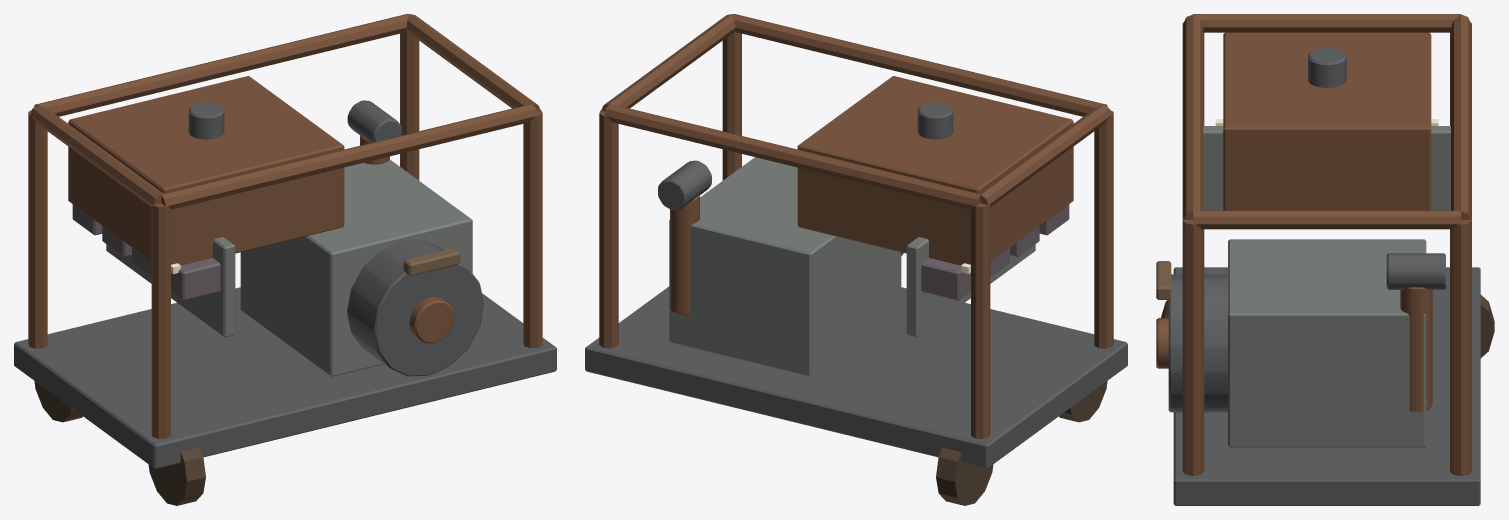
Rendered from SurfaceGenerator.fbx.
3 renders of one model, left to right at view 1: azimuth 30°, elevation 25°; view 2: azimuth 150°, elevation 25°; view 3: azimuth 270°, elevation 25°, orthographic. The views are drawn at different scales.
Visible parts, largest first — view 1: SurfaceGenerator; view 2: SurfaceGenerator; view 3: SurfaceGenerator.
Part boxes in pixels (x1=…): SurfaceGenerator: x1=14, y1=14, x2=556, y2=505; SurfaceGenerator: x1=585, y1=14, x2=1127, y2=505; SurfaceGenerator: x1=1156, y1=14, x2=1494, y2=505.
Bounding box in the file's own units: 102 × 79.5 × 68.3.
